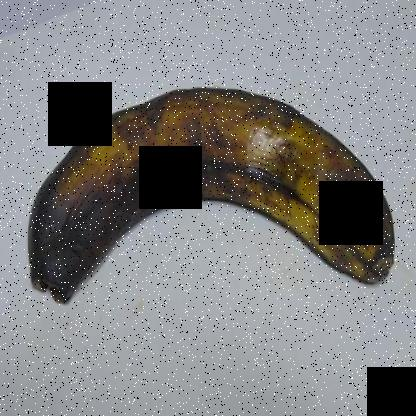overripe: (4, 48, 415, 342)
